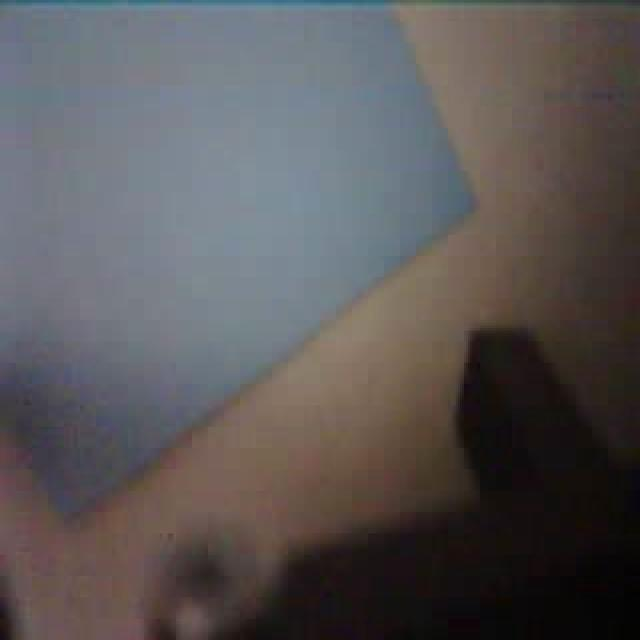blue_box: (0, 0, 482, 525)
